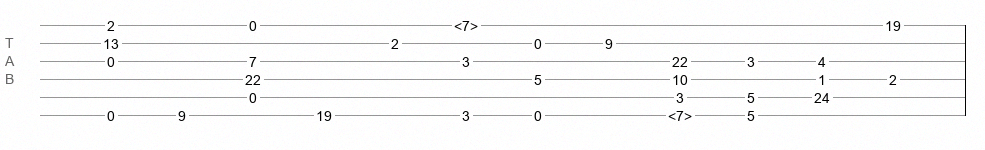0: (107, 54, 115, 64), (107, 108, 115, 118), (249, 90, 257, 100), (249, 18, 257, 28), (534, 108, 542, 118), (534, 36, 542, 46)
1: (818, 72, 826, 82)
10: (672, 72, 688, 82)
13: (103, 36, 119, 46)
19: (316, 108, 332, 118), (885, 18, 901, 28)
2: (107, 18, 115, 28), (391, 36, 399, 46), (889, 72, 897, 82)
22: (245, 72, 261, 82), (672, 54, 688, 64)
24: (814, 90, 830, 100)
3: (462, 54, 470, 64), (462, 108, 470, 118), (676, 90, 684, 100), (747, 54, 755, 64)
4: (818, 54, 826, 64)
5: (534, 72, 542, 82), (747, 90, 755, 100), (747, 108, 755, 118)
7: (249, 54, 257, 64)
9: (178, 108, 186, 118), (605, 36, 613, 46)
harmonic: (454, 18, 478, 28), (668, 108, 692, 118)
